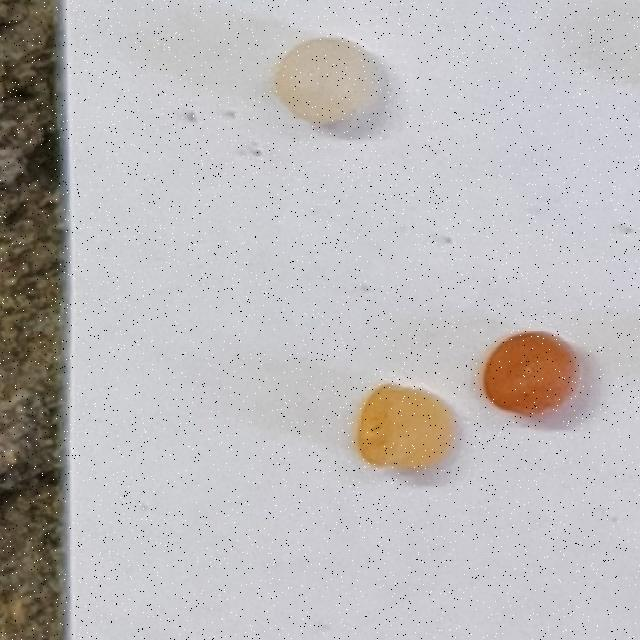beads: (263, 14, 392, 142), (480, 327, 583, 421), (358, 385, 453, 469)
